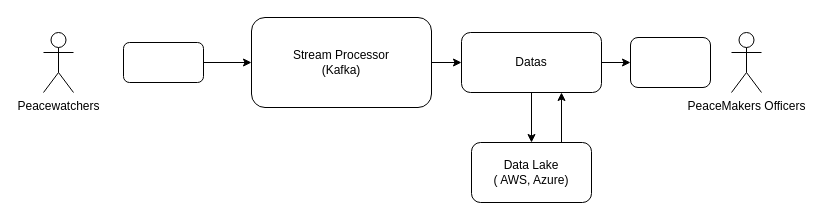
This 822x220 diagram has some shape labels left out. The shapes that lost their labels are listed below. From the top down, each one's centre as x and y in pixels, then its label:
At point 163,62: "Queue".
At point 670,62: "App".
